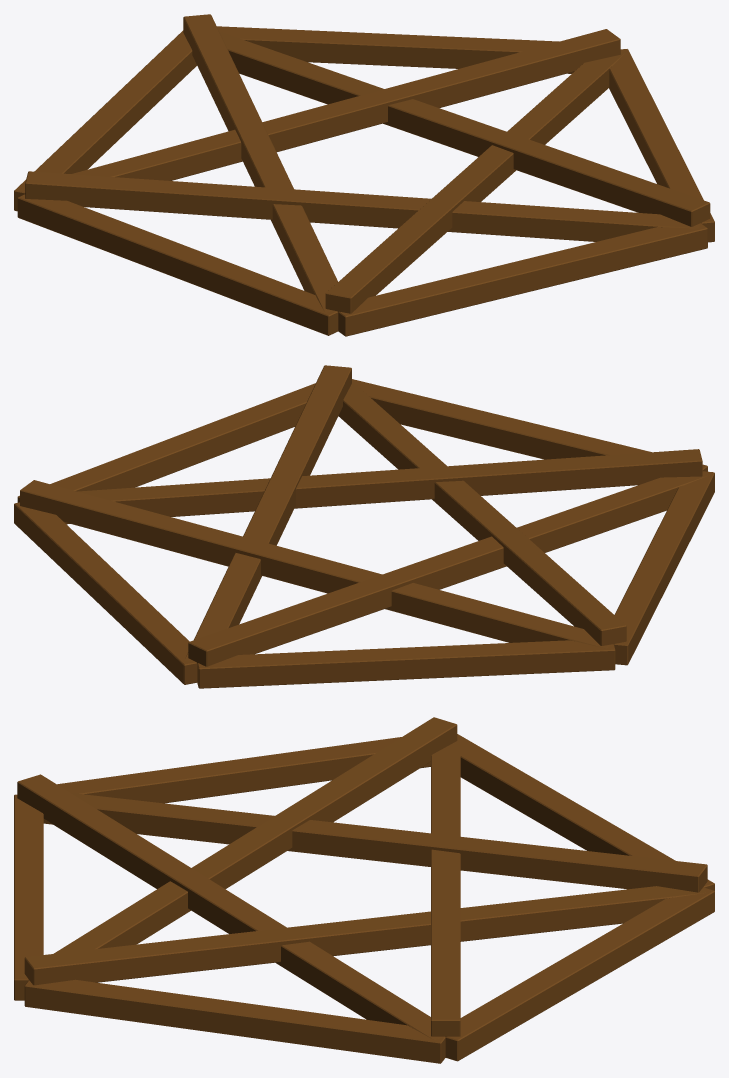
The model's file is RoofBeams.fbx.
3 views of the same model, one above another, from view 1: azimuth 30°, elevation 25°; view 2: azimuth 150°, elevation 25°; view 3: azimuth 270°, elevation 25° (orthographic). The views are drawn at different scales.
Visible parts, largest first — view 1: RoofBeams; view 2: RoofBeams; view 3: RoofBeams.
Boxes of the visible parts, bbox=[...] form: RoofBeams: bbox=[14, 14, 714, 336]; RoofBeams: bbox=[14, 365, 714, 688]; RoofBeams: bbox=[14, 717, 714, 1063].
Size of the model in its own units: 796 by 45.61 by 757.
